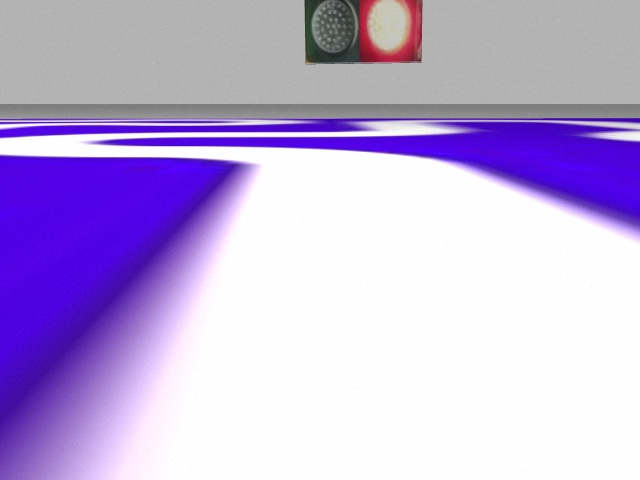red: (360, 1, 422, 62)
